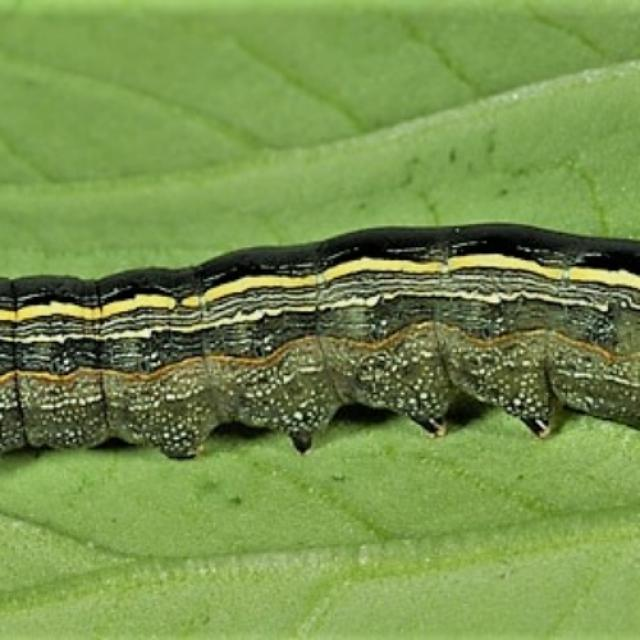armyworm: (0, 219, 639, 468)
